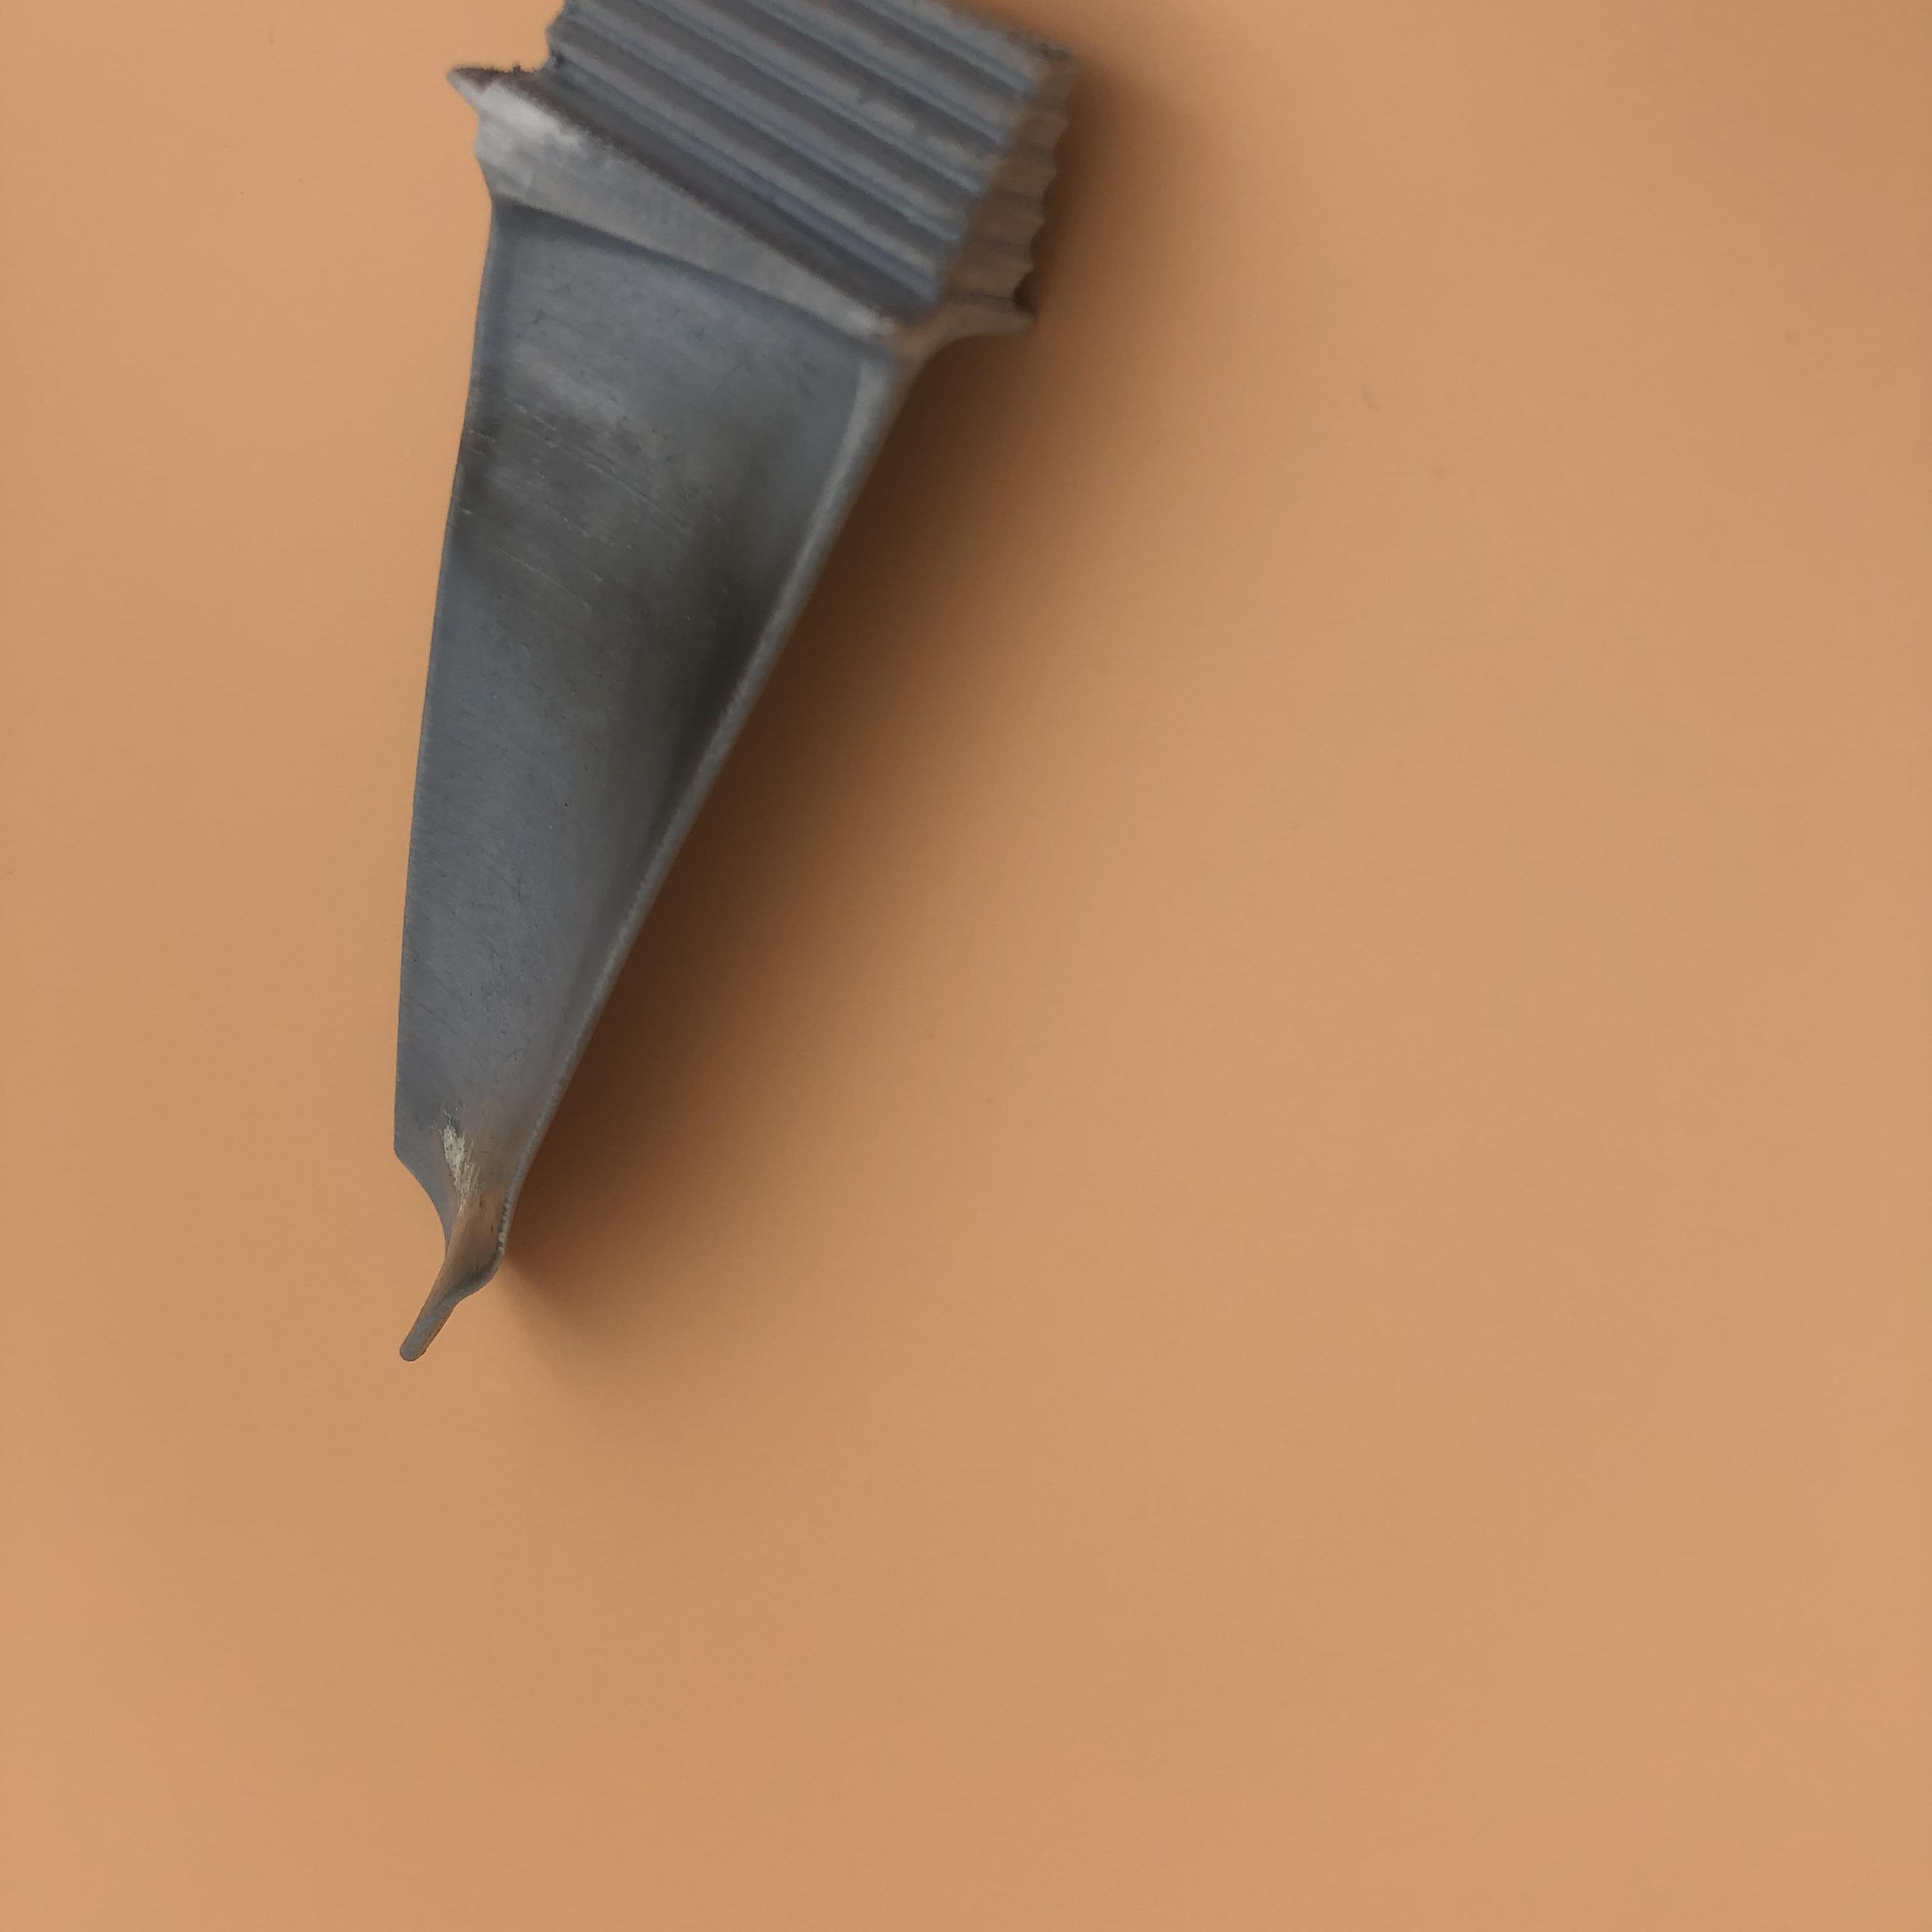ablation: (471, 455, 741, 731), (423, 1125, 513, 1290)
